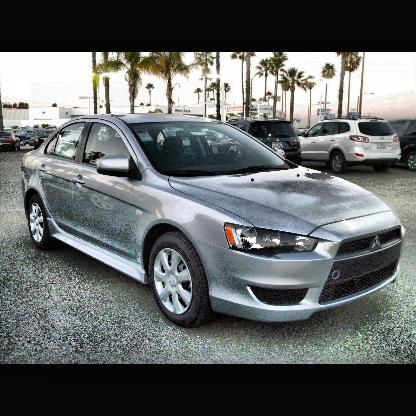Mitsubishi Lancer Sedan 2012: (23, 115, 406, 326)
